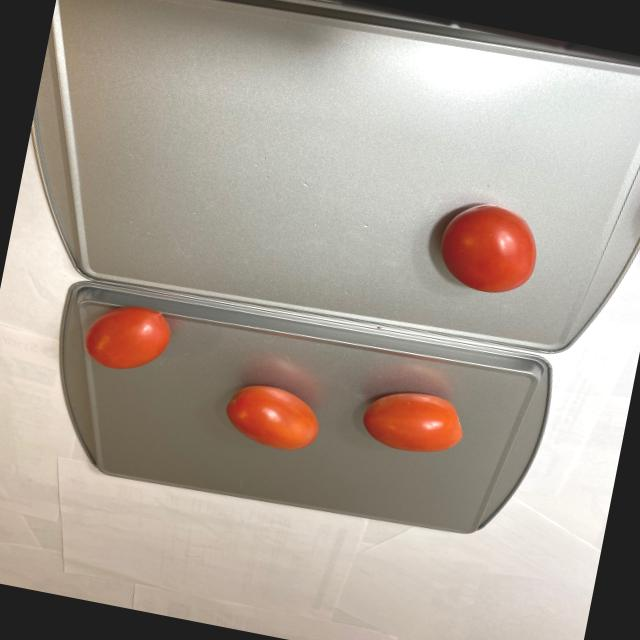tomato: (215, 348, 482, 486), (424, 190, 560, 306), (80, 295, 178, 377)
